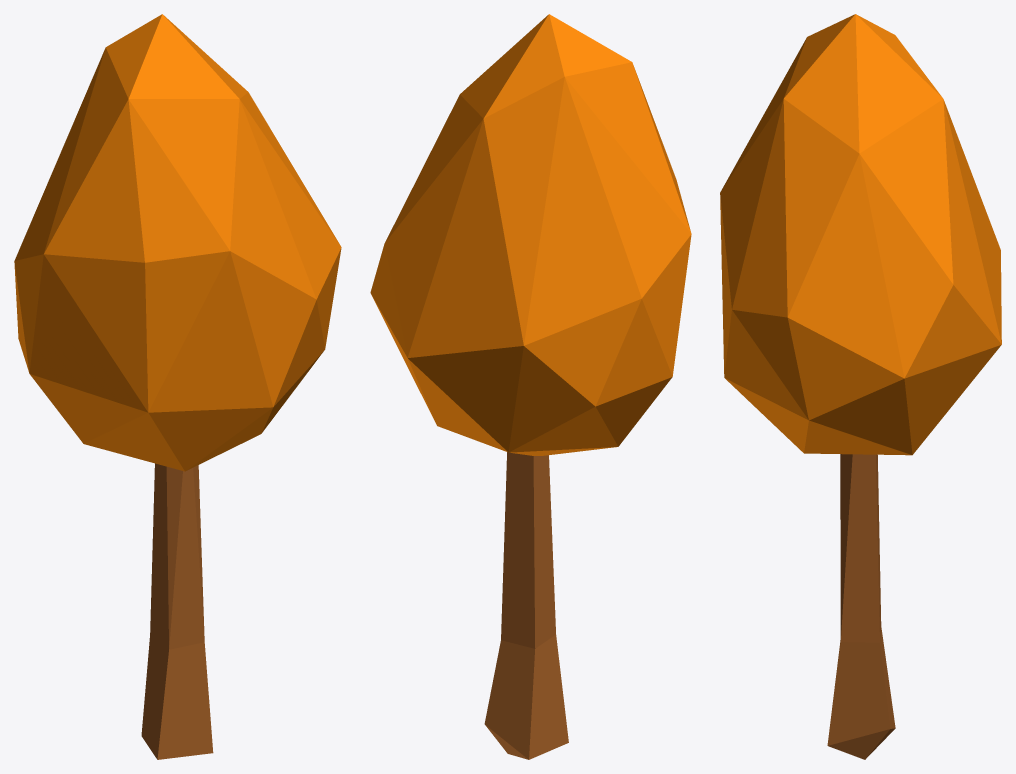
File: fall island TREE 01.fbx
The picture shows the model from 3 angles, left to right: view 1: azimuth 30°, elevation 25°; view 2: azimuth 150°, elevation 25°; view 3: azimuth 270°, elevation 25°; orthographic projection. The views are drawn at different scales.
Parts seen in each view (by area): view 1: tree01; view 2: tree01; view 3: tree01.
Boxes of the visible parts, left/top/right/bottom form: tree01: left=14, top=14, right=341, bottom=759; tree01: left=370, top=14, right=691, bottom=759; tree01: left=720, top=14, right=1001, bottom=759.
Bounding box in the file's own units: 522 × 1310 × 459.
